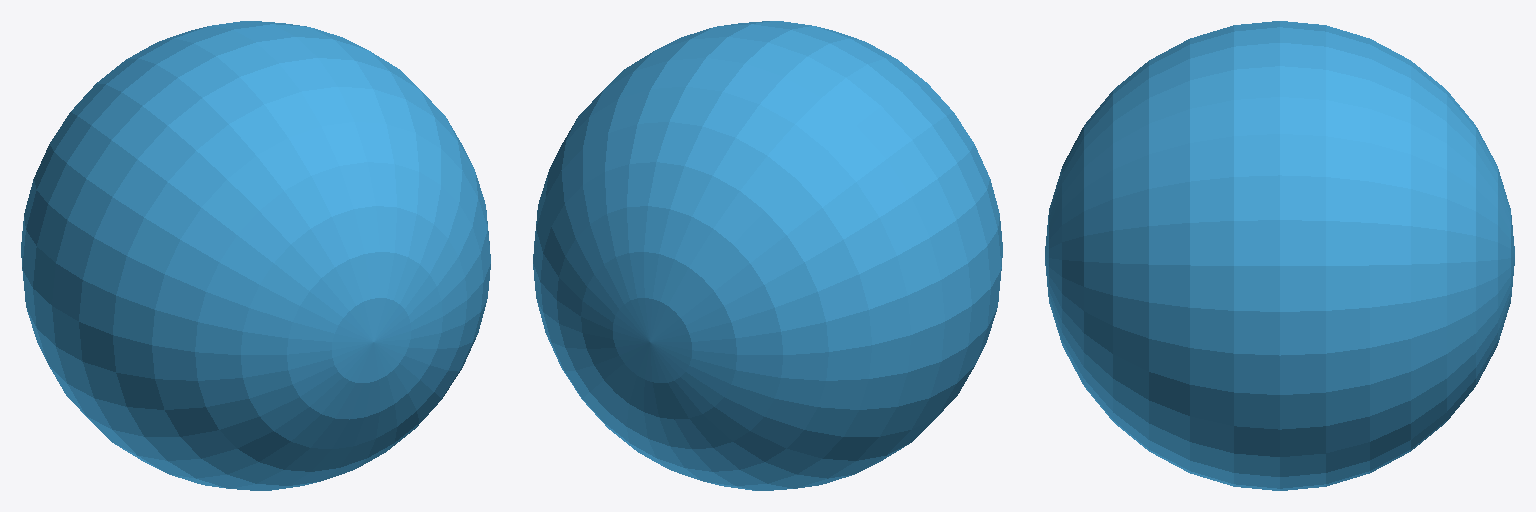
URDF robot description (panda):
<?xml version='1.0' encoding='utf-8'?>
<robot name="panda">

    <link name="base_link">
      <inertial>
        <origin xyz="0 0 0" rpy="0 0 0" />
        <mass value="0.1" />
        <inertia ixx="0.001" iyy="0..01" izz="0..01" ixy="0" ixz="0" iyz="0" />
      </inertial>
    </link>

    <link name="link0">
      <inertial>
        <origin xyz="0 0 0.05" rpy="0 0 0" />
        <mass value="4" />
        <inertia ixx="0.4" iyy="0.4" izz="0.4" ixy="0" ixz="0" iyz="0" />
      </inertial>
      <visual>
        <geometry>
          <mesh filename="../../../Model/meshes/visual/link0.obj"/>
        </geometry>
      </visual>
<!--       <collision>
        <geometry>
          <mesh filename="../../../Model/meshes/collision/link0.obj"/>
        </geometry>
      </collision> -->
    </link>
    <link name="link1">
      <inertial>
        <origin xyz="0 0 -0.07" rpy="0 -0 0" />
        <mass value="3" />
        <inertia ixx="0.3" iyy="0.3" izz="0.3" ixy="0" ixz="0" iyz="0" />
      </inertial>
      <visual>
        <geometry>
          <mesh filename="../../../Model/meshes/visual/link1.obj"/>
        </geometry>
      </visual>
      <!-- <collision>
        <geometry>
          <mesh filename="../../../Model/meshes/collision/link1.obj"/>
        </geometry>
      </collision> -->
    </link>
    <link name="link2">
      <inertial>
        <origin xyz="0 -0.1 0" rpy="0 -0 0" />
        <mass value="3" />
        <inertia ixx="0.3" iyy="0.3" izz="0.3" ixy="0" ixz="0" iyz="0" />
      </inertial>
      <visual>
        <geometry>
          <mesh filename="../../../Model/meshes/visual/link2.obj"/>
        </geometry>
      </visual>
      <!-- <collision>
        <geometry>
          <mesh filename="../../../Model/meshes/collision/link2.obj"/>
        </geometry>
      </collision> -->
    </link>
    <link name="link3">
      <inertial>
        <origin xyz="0.04 0 -0.05" rpy="0 -0 0" />
        <mass value="2" />
        <inertia ixx="0.2" iyy="0.2" izz="0.2" ixy="0" ixz="0" iyz="0" />
      </inertial>
      <visual>
        <geometry>
          <mesh filename="../../../Model/meshes/visual/link3.obj"/>
        </geometry>
      </visual>
      <!-- <collision>
        <geometry>
          <mesh filename="../../../Model/meshes/collision/link3.obj"/>
        </geometry>
      </collision> -->
    </link>
    <link name="link4">
      <inertial>
        <origin xyz="-0.04 0.05 0" rpy="0 -0 0" />
        <mass value="2" />
        <inertia ixx="0.2" iyy="0.2" izz="0.2" ixy="0" ixz="0" iyz="0" />
      </inertial>
      <visual>
        <geometry>
          <mesh filename="../../../Model/meshes/visual/link4.obj"/>
        </geometry>
      </visual>
<!--       <visual>
        <origin xyz="-0.085 0.065 0" rpy="0 0 0" />
        <geometry>
          <sphere radius="0.05"/>
        </geometry>
        <material name="material_green">
          <color rgba="0.3 0.7 0.3 1.0" />
        </material>
      </visual>   -->  
      <collision>
        <origin xyz="-0.085 0.065 0" rpy="0 0 0" />
        <geometry>
          <sphere radius="0.05"/>
        </geometry>
      </collision>         
<!--       <collision>
        <geometry>
          <mesh filename="../../../Model/meshes/collision/link4.obj"/>
        </geometry>
      </collision> -->
    </link>
    <link name="link5">
      <inertial>
        <origin xyz="0 0 -0.15" rpy="0 -0 0" />
        <mass value="2" />
        <inertia ixx="0.2" iyy="0.2" izz="0.2" ixy="0" ixz="0" iyz="0" />
      </inertial>
      <visual>
        <geometry>
          <mesh filename="../../../Model/meshes/visual/link5.obj"/>
        </geometry>
      </visual>
<!--       <collision>
        <geometry>
          <mesh filename="../../../Model/meshes/collision/link5.obj"/>
        </geometry>
      </collision> -->
    </link>
    <link name="link6">
      <inertial>
        <origin xyz="0.06 0 0" rpy="0 -0 0" />
        <mass value="1.5" />
        <inertia ixx="0.1" iyy="0.1" izz="0.1" ixy="0" ixz="0" iyz="0" />
      </inertial>
      <visual>
        <geometry>
          <mesh filename="../../../Model/meshes/visual/link6.obj"/>
        </geometry>
      </visual>
      <!-- <collision>
        <geometry>
          <mesh filename="../../../Model/meshes/collision/link6.obj"/>
        </geometry>
      </collision> -->
    </link>
    <link name="link7">
      <inertial>
        <origin xyz="0 0 0.17" rpy="0 -0 0" />
        <mass value="1.8" />
        <inertia ixx="0.09" iyy="0.05" izz="0.07" ixy="0" ixz="0" iyz="0" />
      </inertial>
      <visual>
        <geometry>
          <mesh filename="../../../Model/meshes/visual/link7.obj"/>
        </geometry>
      </visual>
      <!-- <collision>
        <geometry>
          <mesh filename="../../../Model/meshes/collision/link7.obj"/>
        </geometry>
      </collision> -->
    </link>
    <link name="end-effector">
      <inertial>
        <origin xyz="0 0 0" rpy="0 -0 0" />
        <mass value="0.2" />
        <inertia ixx="0.01" iyy="0.01" izz="0.01" ixy="0" ixz="0" iyz="0" />
      </inertial>
      <visual>
        <geometry>
          <sphere radius="0.04" />
        </geometry>
      </visual>
      <collision>
        <geometry>
          <sphere radius="0.04" />
        </geometry>
      </collision>
    </link>

     <joint name="base_joint" type="prismatic">
      <safety_controller k_position="100.0" k_velocity="40.0" soft_lower_limit="-2.8973" soft_upper_limit="2.8973"/>
      <origin xyz="0.0 0.0 0.8" rpy="1.57079632679 0 1.57079632679" />
      <parent link="base_link"/>
      <child link="link0"/>
      <axis xyz="0 1 0"/>
      <limit effort="87" lower="-2.8973" upper="2.8973" velocity="2.1750"/>
    </joint>   
    <joint name="joint1" type="revolute">
      <safety_controller k_position="100.0" k_velocity="40.0" soft_lower_limit="-2.8973" soft_upper_limit="2.8973"/>
      <origin rpy="0 0 0" xyz="0 0 0.333"/>
      <parent link="link0"/>
      <child link="link1"/>
      <axis xyz="0 0 1"/>
      <calibration falling="45.0" />
      <limit effort="87" lower="-2.8973" upper="2.8973" velocity="2.1750"/>
    </joint>
    <joint name="joint2" type="revolute">
      <safety_controller k_position="100.0" k_velocity="40.0" soft_lower_limit="-1.7628" soft_upper_limit="1.7628"/>
      <origin rpy="-1.57079632679 0 0" xyz="0 0 0"/>
      <parent link="link1"/>
      <child link="link2"/>
      <axis xyz="0 0 1"/>
      <calibration falling="-45.0" />
      <limit effort="87" lower="-1.7628" upper="1.7628" velocity="2.1750"/>
    </joint>
    <joint name="joint3" type="revolute">
      <safety_controller k_position="100.0" k_velocity="40.0" soft_lower_limit="-2.8973" soft_upper_limit="2.8973"/>
      <origin rpy="1.57079632679 0 0" xyz="0 -0.316 0"/>
      <parent link="link2"/>
      <child link="link3"/>
      <axis xyz="0 0 1"/>
      <limit effort="87" lower="-2.8973" upper="2.8973" velocity="2.1750"/>
    </joint>
    <joint name="joint4" type="revolute">
      <safety_controller k_position="100.0" k_velocity="40.0" soft_lower_limit="-3.0718" soft_upper_limit="-0.0698"/>
      <origin rpy="1.57079632679 0 0" xyz="0.0825 0 0"/>
      <parent link="link3"/>
      <child link="link4"/>
      <axis xyz="0 0 1"/>
      <calibration falling="-70.0" />
      <limit effort="87" lower="-3.0718" upper="-0.0698" velocity="2.1750"/>
    </joint>
    <joint name="joint5" type="revolute">
      <safety_controller k_position="100.0" k_velocity="40.0" soft_lower_limit="-2.8973" soft_upper_limit="2.8973"/>
      <origin rpy="-1.57079632679 0 0" xyz="-0.0825 0.384 0"/>
      <parent link="link4"/>
      <child link="link5"/>
      <axis xyz="0 0 1"/>
      <calibration falling="-105.0" />
      <limit effort="12" lower="-2.8973" upper="2.8973" velocity="2.6100"/>
    </joint>
    <joint name="joint6" type="revolute">
      <safety_controller k_position="100.0" k_velocity="40.0" soft_lower_limit="-0.0175" soft_upper_limit="3.7525"/>
      <origin rpy="1.57079632679 0 0" xyz="0 0 0"/>
      <parent link="link5"/>
      <child link="link6"/>
      <axis xyz="0 0 1"/>
      <calibration falling="90.0" />
      <limit effort="12" lower="-0.0175" upper="3.7525" velocity="2.6100"/>
    </joint>
    <joint name="joint7" type="revolute">
      <safety_controller k_position="100.0" k_velocity="40.0" soft_lower_limit="-2.8973" soft_upper_limit="2.8973"/>
      <origin rpy="1.57079632679 0 0" xyz="0.088 0 0"/>
      <parent link="link6"/>
      <child link="link7"/>
      <axis xyz="0 0 1"/>
      <limit effort="12" lower="-2.8973" upper="2.8973" velocity="2.6100"/>
    </joint>
    <joint name="joint_ee" type="fixed">
      <!-- <safety_controller k_position="100.0" k_velocity="40.0" soft_lower_limit="-2.8973" soft_upper_limit="2.8973"/> -->
      <origin rpy="0 0 0" xyz="0 0 0.15"/>
      <parent link="link7"/>
      <child link="end-effector"/>
      <!-- <axis xyz="0 0 1"/> -->
      <!-- <limit effort="12" lower="-2.8973" upper="2.8973" velocity="2.6100"/> -->
    </joint>
</robot>

--- What the picture shows (computed from the rendered views, not written in the file) ---
The picture shows the robot from 3 angles, left to right: view 1: azimuth 30°, elevation 25°; view 2: azimuth 150°, elevation 25°; view 3: azimuth 270°, elevation 25°; orthographic projection.
Robot: panda — 10 links, 9 joints (7 revolute, 1 prismatic, 1 fixed); root link base_link; default pose: all joints at 0 but 1 set to mid-range because 0 is outside their limits (joint4 = -1.57).
Visible links, largest first — view 1: end-effector; view 2: end-effector; view 3: end-effector.
Link boxes in pixels (x1,y1,x2,y2): end-effector: (21, 21, 490, 490); end-effector: (533, 21, 1002, 490); end-effector: (1045, 21, 1514, 490).
Bounding box of the posed robot: 0.08 × 0.08 × 0.08 m (x, y, z).
Geometry: only primitive shapes (box / cylinder / sphere) drawn; not drawn: 8 mesh visuals (reference in a form the renderer does not follow).